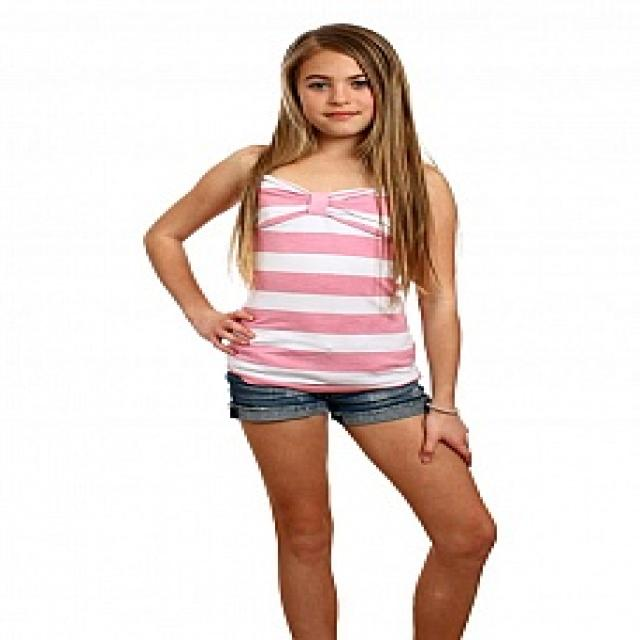Eyes: (295, 65, 383, 95)
